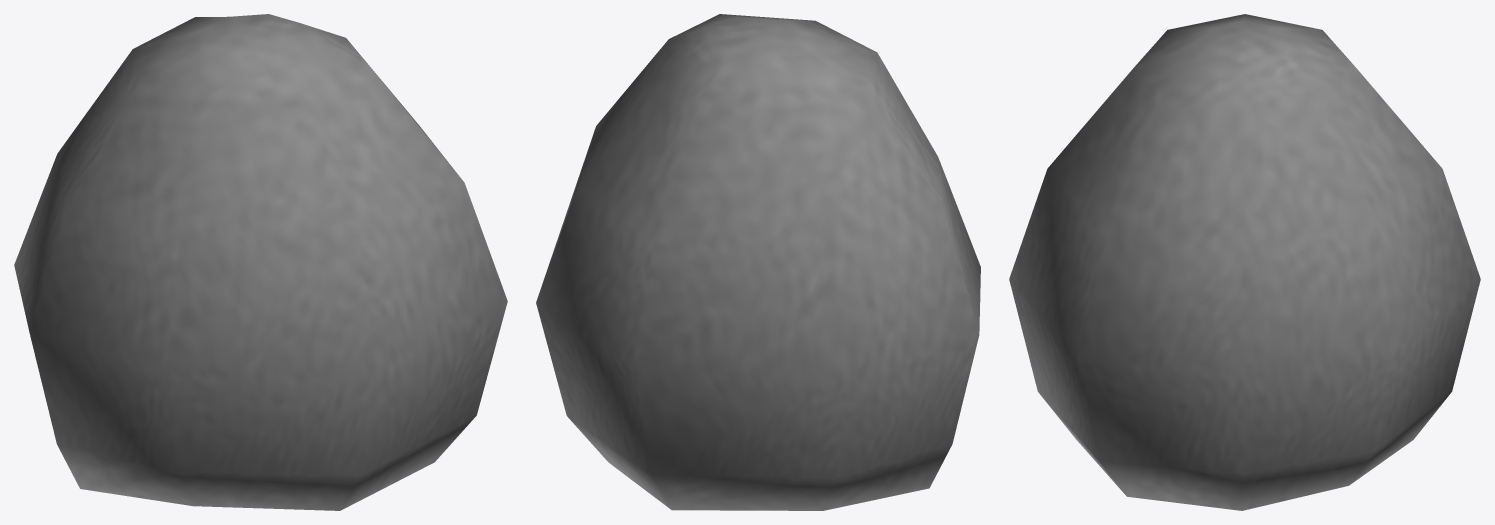
The model's file is Pietre_3.fbx.
3 renders of one model, left to right at view 1: azimuth 30°, elevation 25°; view 2: azimuth 150°, elevation 25°; view 3: azimuth 270°, elevation 25°, orthographic. The views are drawn at different scales.
Parts seen in each view (by area): view 1: pCube3; view 2: pCube3; view 3: pCube3.
Part boxes in pixels (bbox=[...]): pCube3: bbox=[14, 14, 507, 510]; pCube3: bbox=[536, 14, 980, 510]; pCube3: bbox=[1009, 14, 1480, 510].
Bounding box in the file's own units: 0.6958 × 0.6552 × 0.6966.
1 material, 1 textured.
